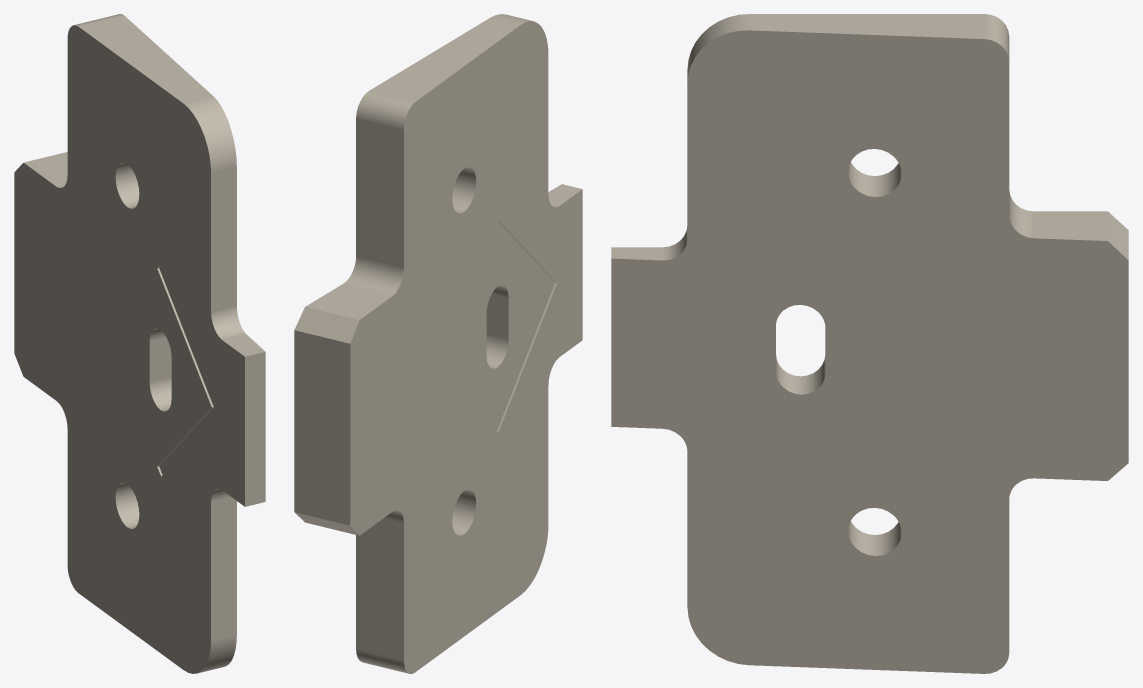
The picture shows the model from 3 angles, left to right: view 1: azimuth 30°, elevation 25°; view 2: azimuth 150°, elevation 25°; view 3: azimuth 270°, elevation 25°; orthographic projection. The views are drawn at different scales.
Visible parts, largest first — view 1: bau0006168120; view 2: bau0006168120; view 3: bau0006168120.
Boxes of the visible parts, x1,y1,x2,y2 form: bau0006168120: (14,14,265,673); bau0006168120: (294,14,582,673); bau0006168120: (611,14,1128,673).
Size of the model in its own units: 5.82 by 56.6 by 41.8.
